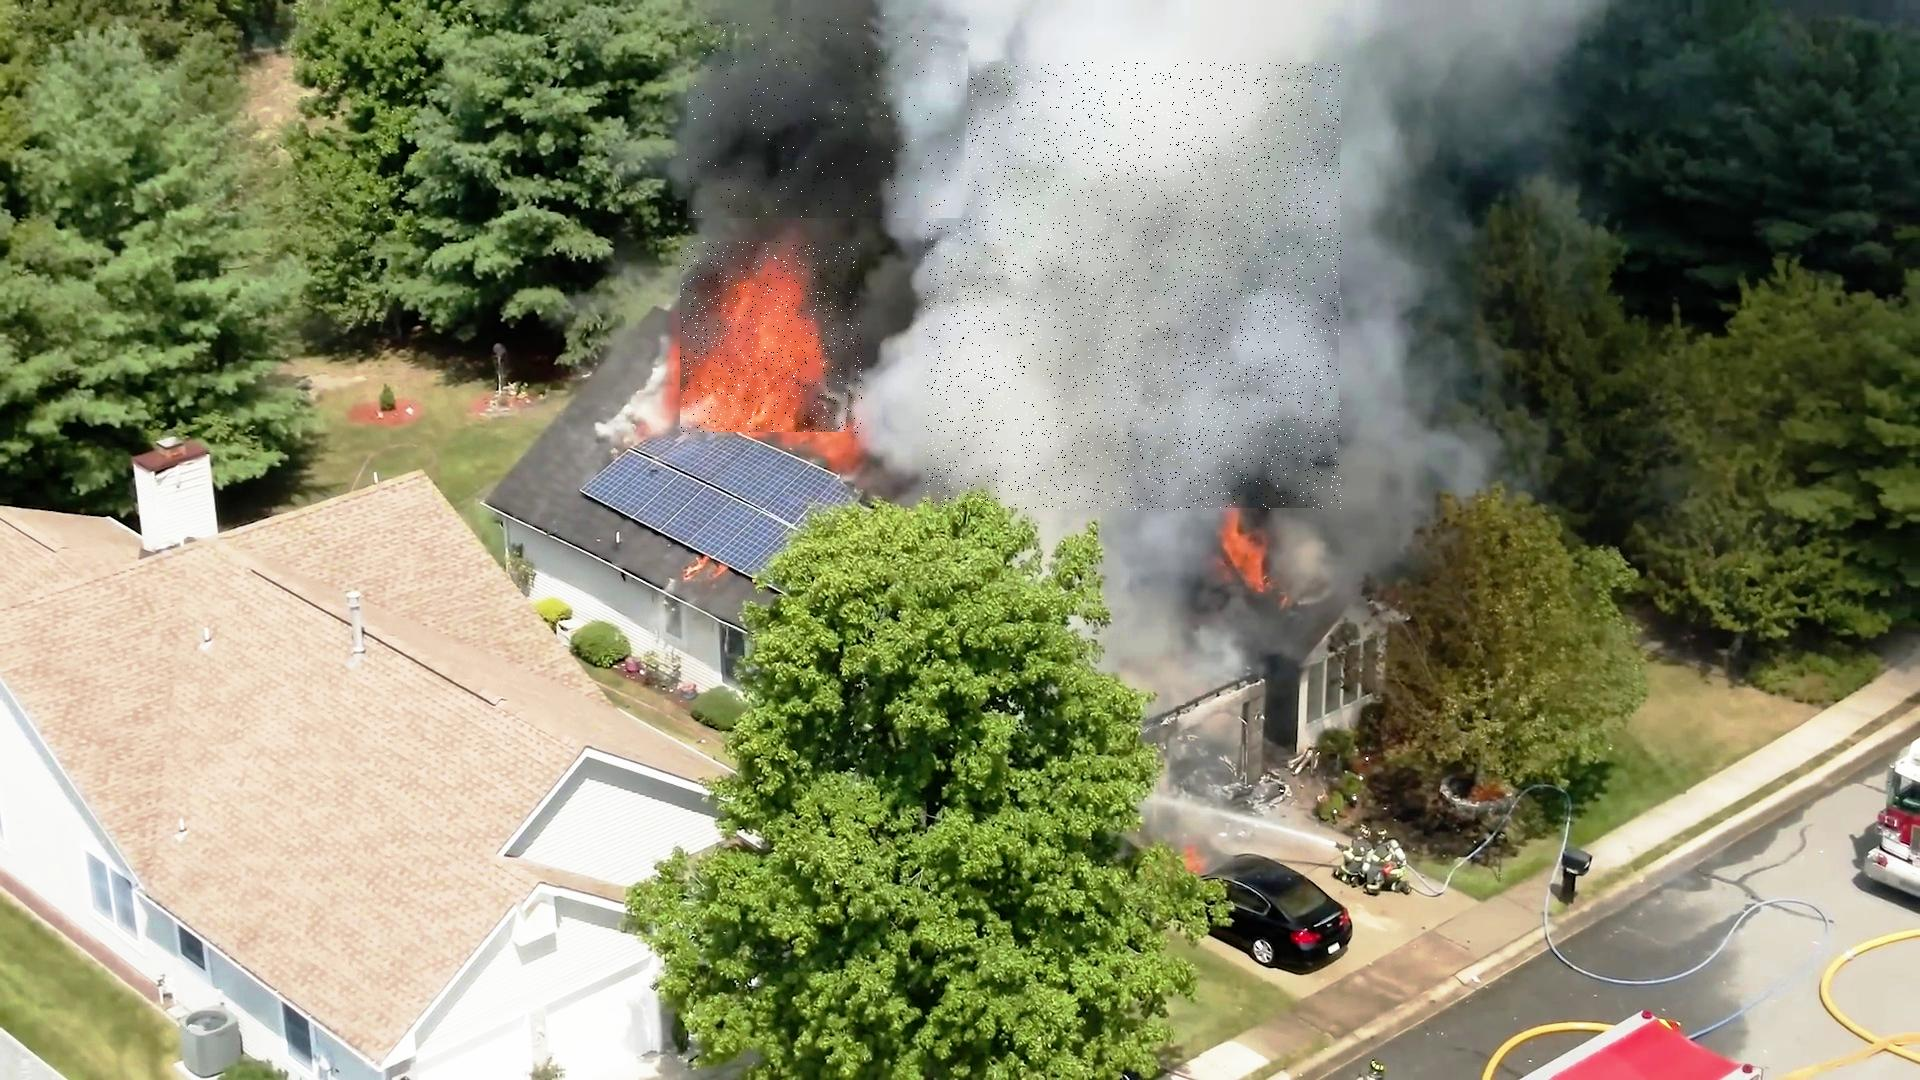fire: (680, 243, 862, 435)
smoke: (926, 63, 1341, 510), (687, 16, 969, 220)
